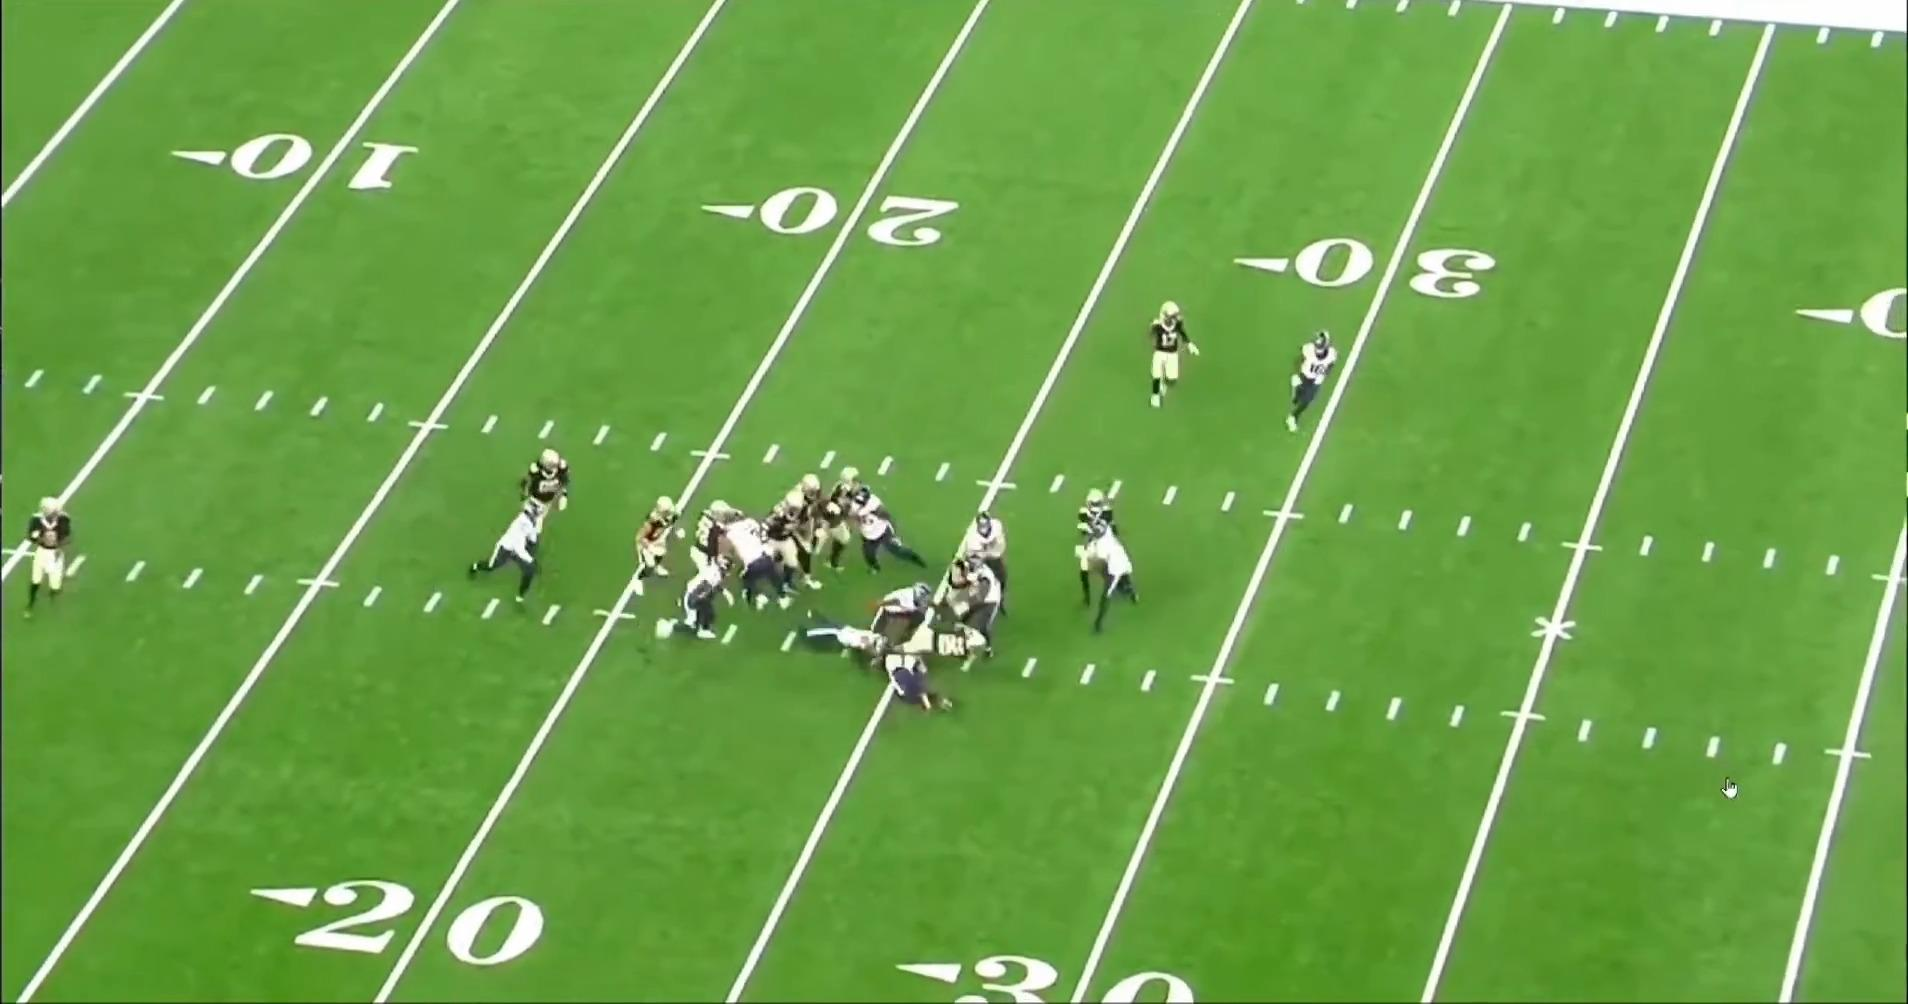player: (468, 496, 550, 617), (824, 483, 925, 578), (756, 486, 830, 595), (1086, 518, 1151, 640), (667, 548, 743, 645), (721, 518, 793, 617), (28, 497, 82, 622), (621, 493, 684, 600), (1289, 333, 1350, 442), (1148, 301, 1205, 417), (952, 512, 1010, 626), (946, 555, 1006, 662), (873, 637, 950, 718), (811, 477, 871, 571), (1072, 486, 1117, 608), (790, 611, 898, 659), (694, 503, 750, 589), (775, 471, 830, 555), (520, 444, 576, 516), (871, 582, 941, 636), (943, 537, 981, 598)
